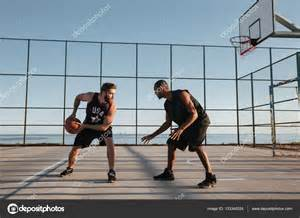basketball: (65, 118, 80, 133)
